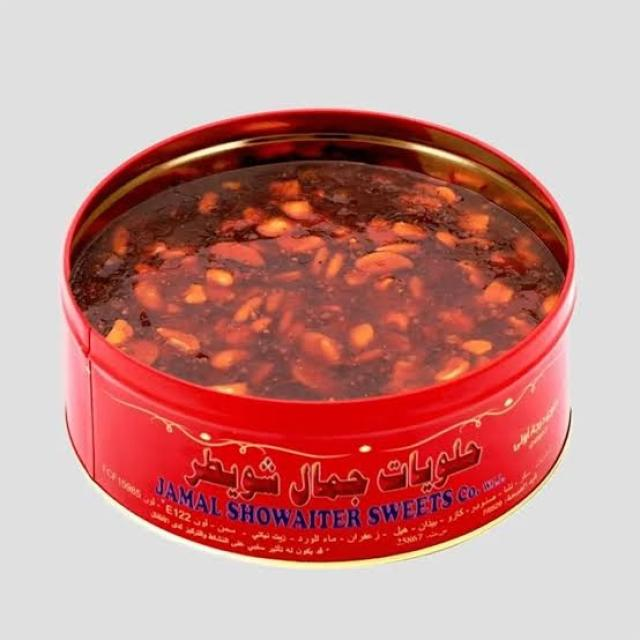Halwa: (62, 146, 576, 414)
